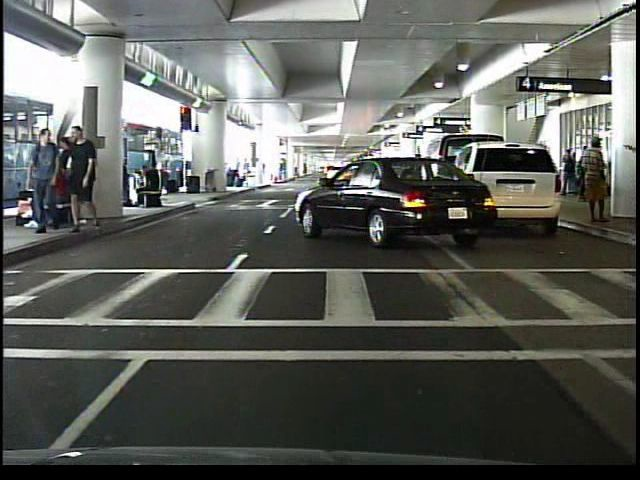person: (579, 136, 612, 230), (130, 162, 163, 212), (559, 142, 579, 200)
